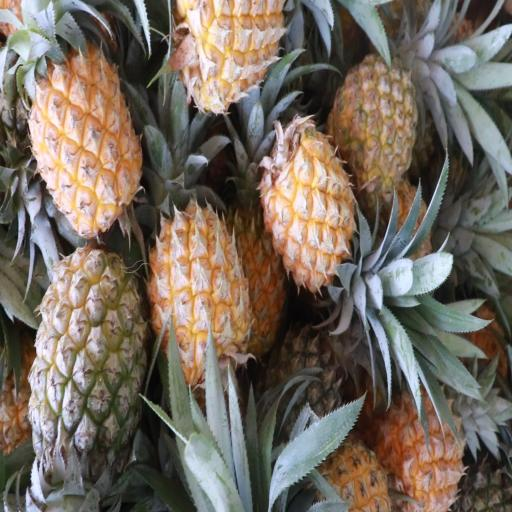------------------------------: (32, 250, 144, 472), (329, 60, 412, 195)
Pineapple - v8 v1: (34, 51, 138, 236), (152, 207, 246, 383), (262, 130, 351, 293), (174, 0, 280, 105), (381, 388, 466, 512), (221, 206, 286, 354)
